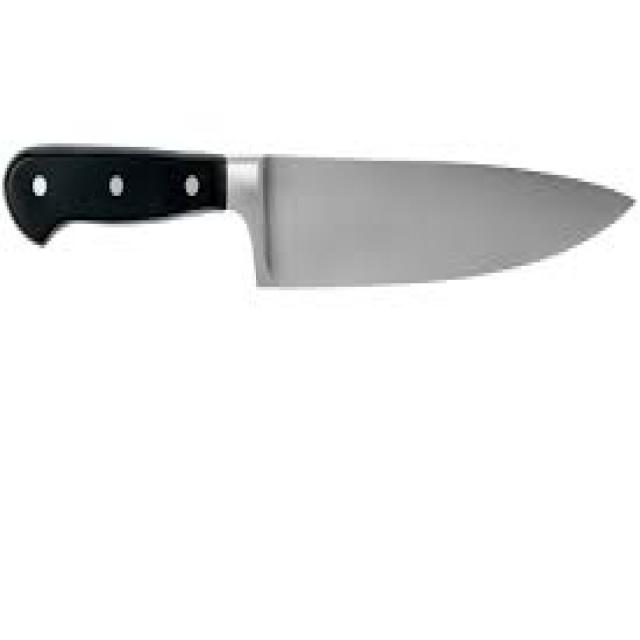knife: (1, 138, 640, 301)
